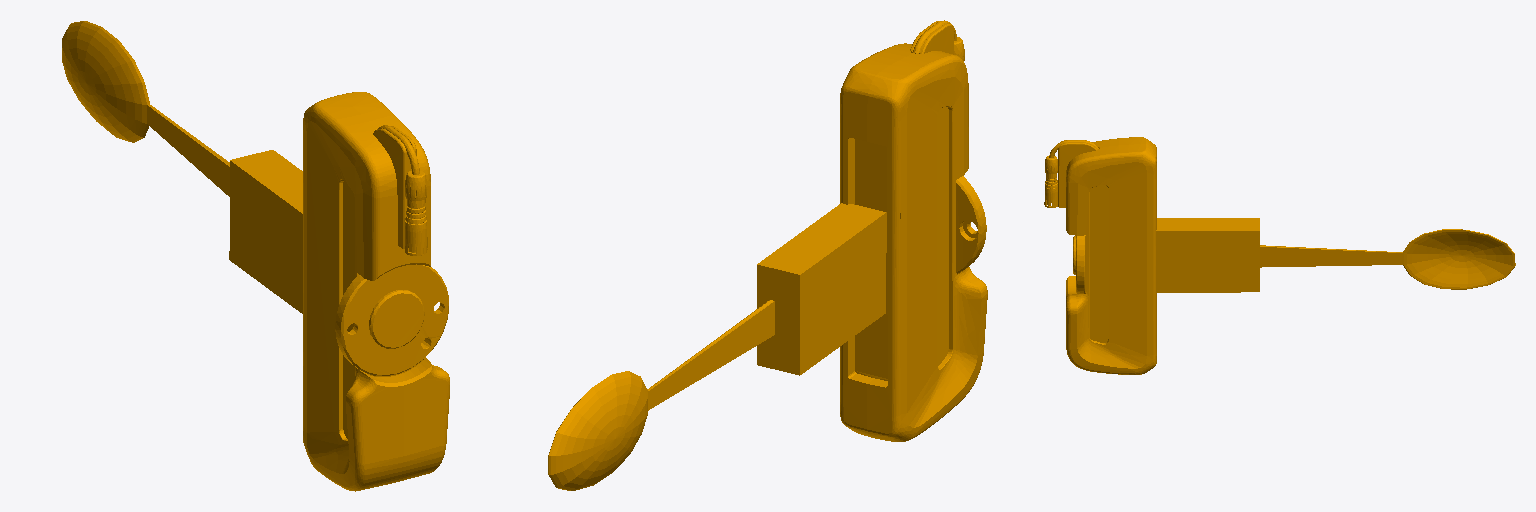
URDF robot description (com):
<?xml version="1.0" ?>
<robot name="com">
  <link name="com">
    <visual>
      <origin xyz="0 0 0"/>
      <geometry>
        <mesh filename="com.obj" scale="0.1 0.1 0.1"/>
      </geometry>
    </visual>
    <collision>
      <origin xyz="0 0 0"/>
      <geometry>
        <mesh filename="com.obj" scale="0.1 0.1 0.1"/>
      </geometry>
    </collision>
    <inertial>
      <mass value="0.5"/> 
      <inertia ixx="0.0001" ixy="0.0" ixz="0.0" iyy="0.0001" iyz="0.0" izz="0.0001"/>
    </inertial>
  </link>
</robot>

--- What the picture shows (computed from the rendered views, not written in the file) ---
The picture shows the robot from 3 angles, left to right: view 1: azimuth 30°, elevation 25°; view 2: azimuth 150°, elevation 25°; view 3: azimuth 270°, elevation 25°; orthographic projection.
Robot: com — 1 links, 0 joints (none); root link com; default pose: every joint at zero.
Visible links, largest first — view 1: com; view 2: com; view 3: com.
Link boxes in pixels (x1,y1,x2,y2): com: (62, 21, 449, 491); com: (548, 20, 987, 490); com: (1044, 137, 1515, 374).
Size in the robot's own frame: 0.0063 by 0.0385 by 0.0205 metres.
1 mesh visuals loaded from 1 distinct referenced files (1 OBJ).